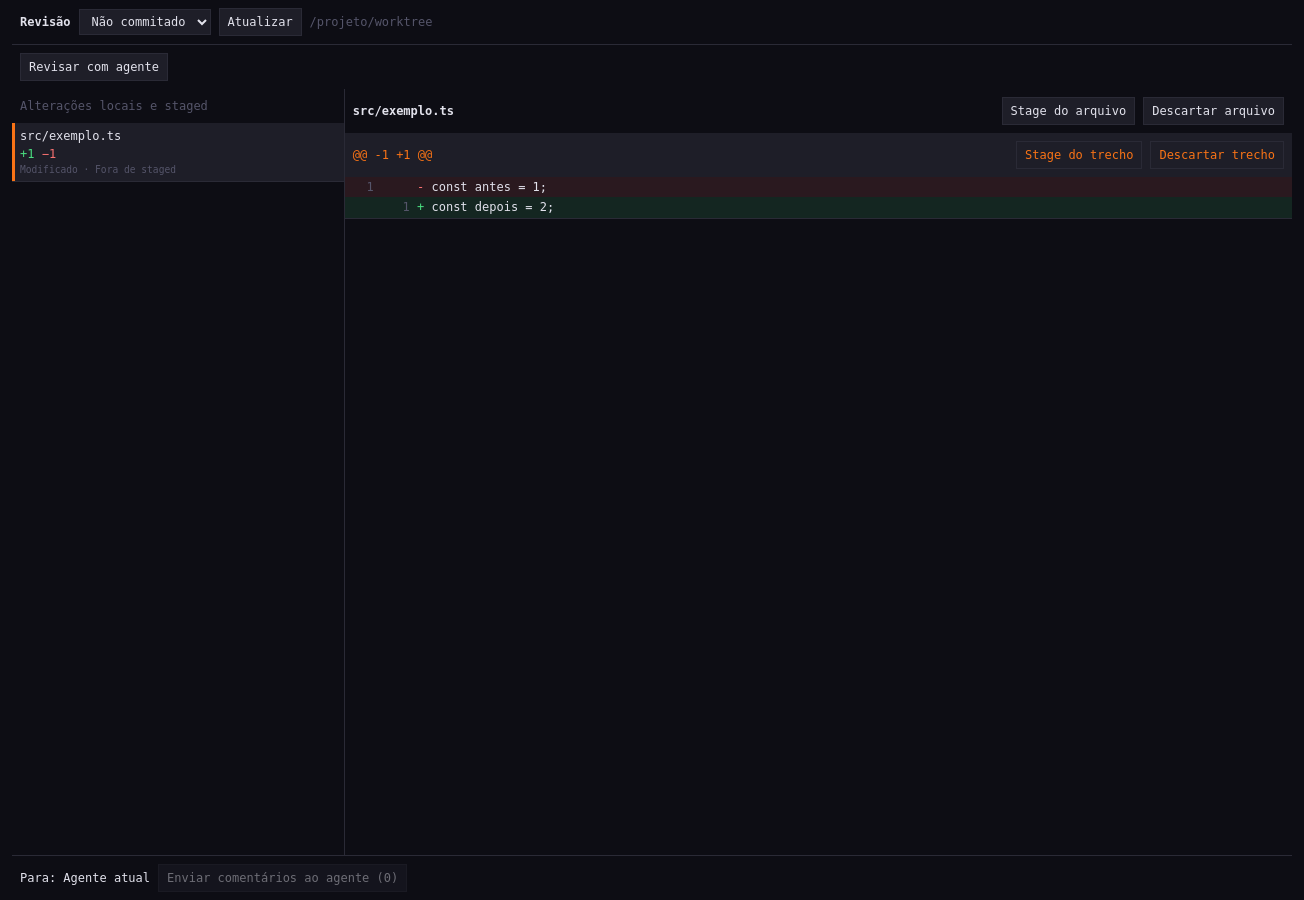
Test: mostra falha de patch obsoleto e permite atualizar
Click the button "Stage do trecho" at (1079, 155), box [1016,141,1142,169]
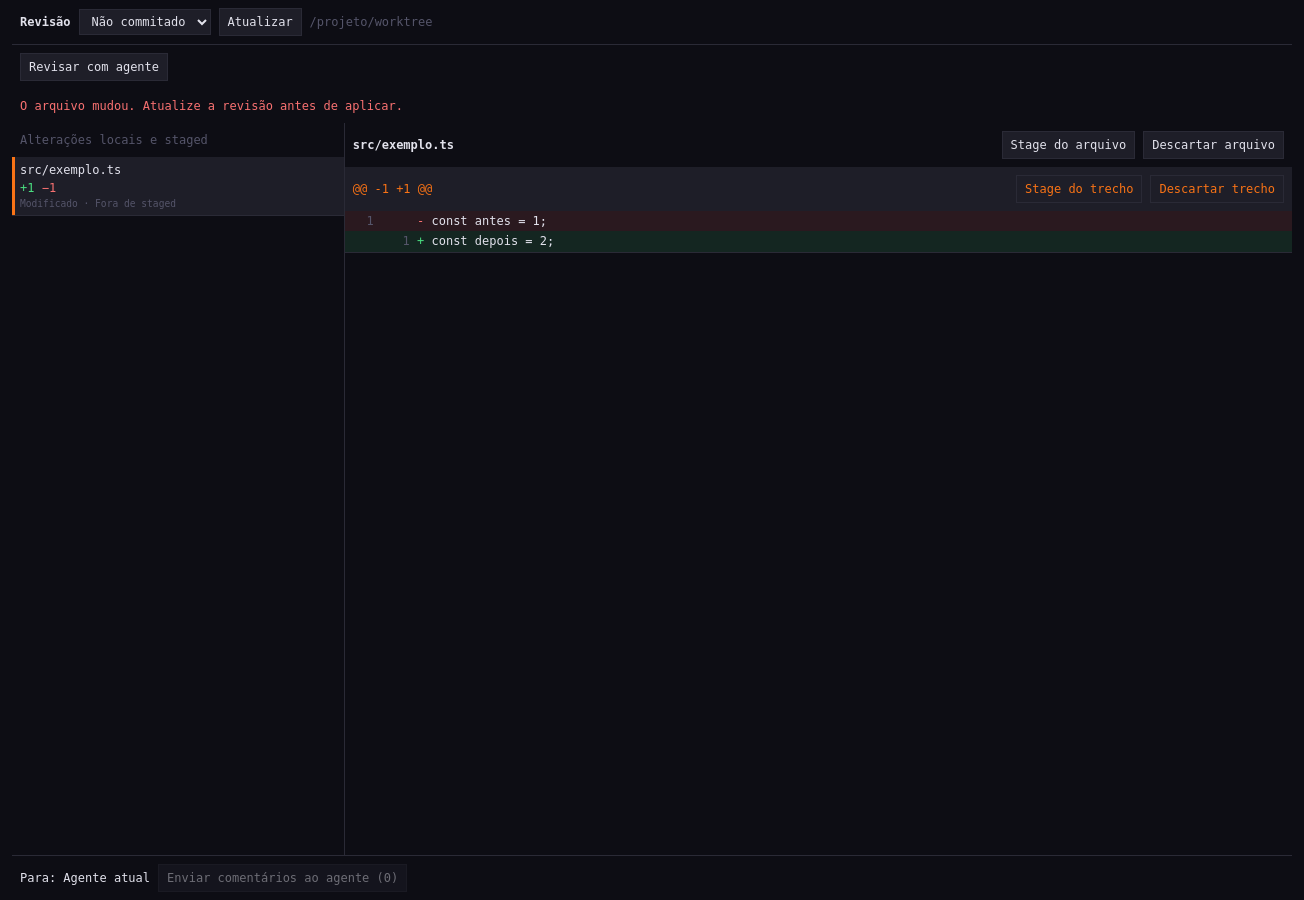
Expected: the message shows "O arquivo mudou", [20,99,403,113]
Click the button "Atualizar" at (260, 22), box [219,8,302,36]
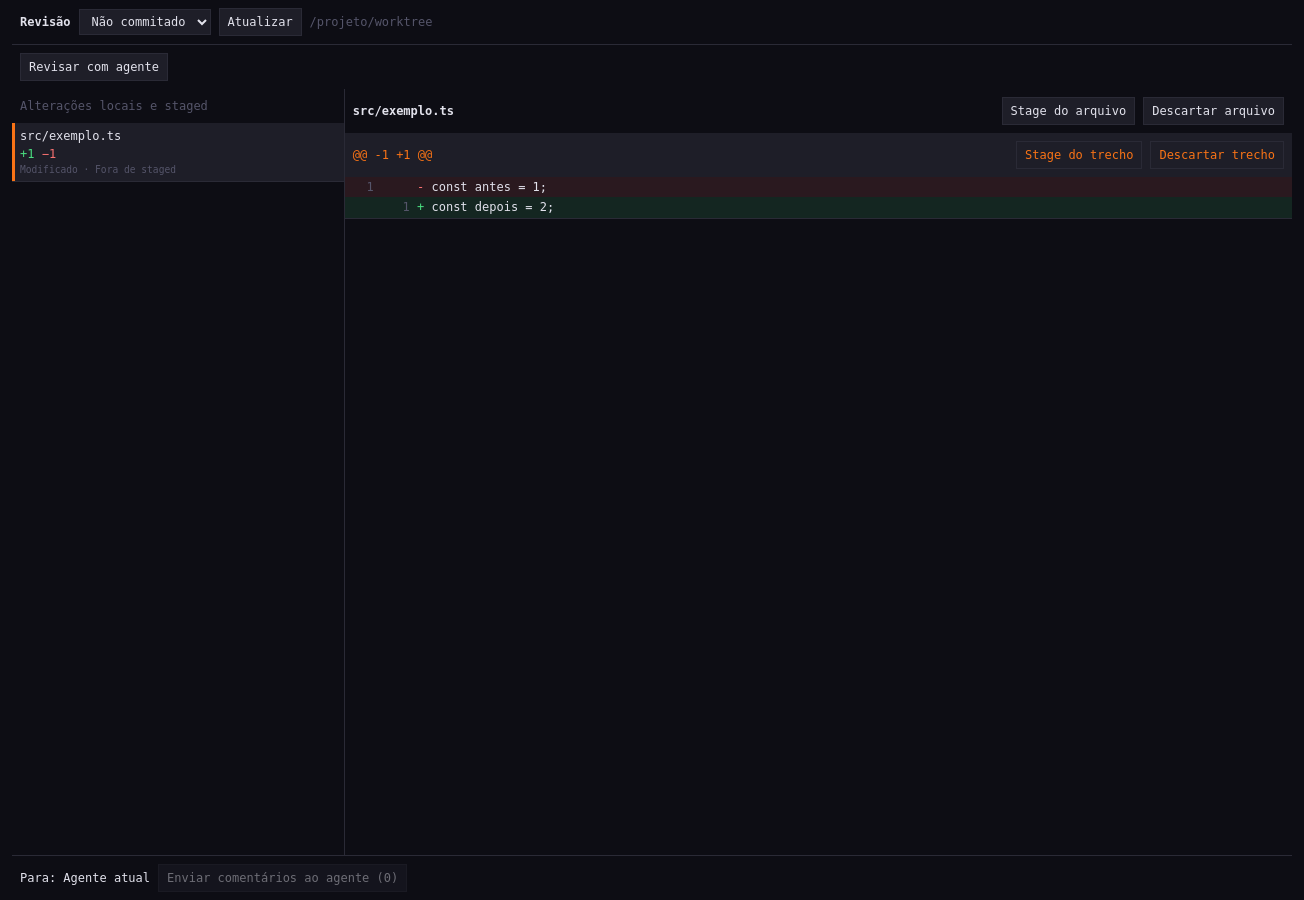
Expected: the message "O arquivo mudou. Atualize a revisão antes de aplicar." is gone
